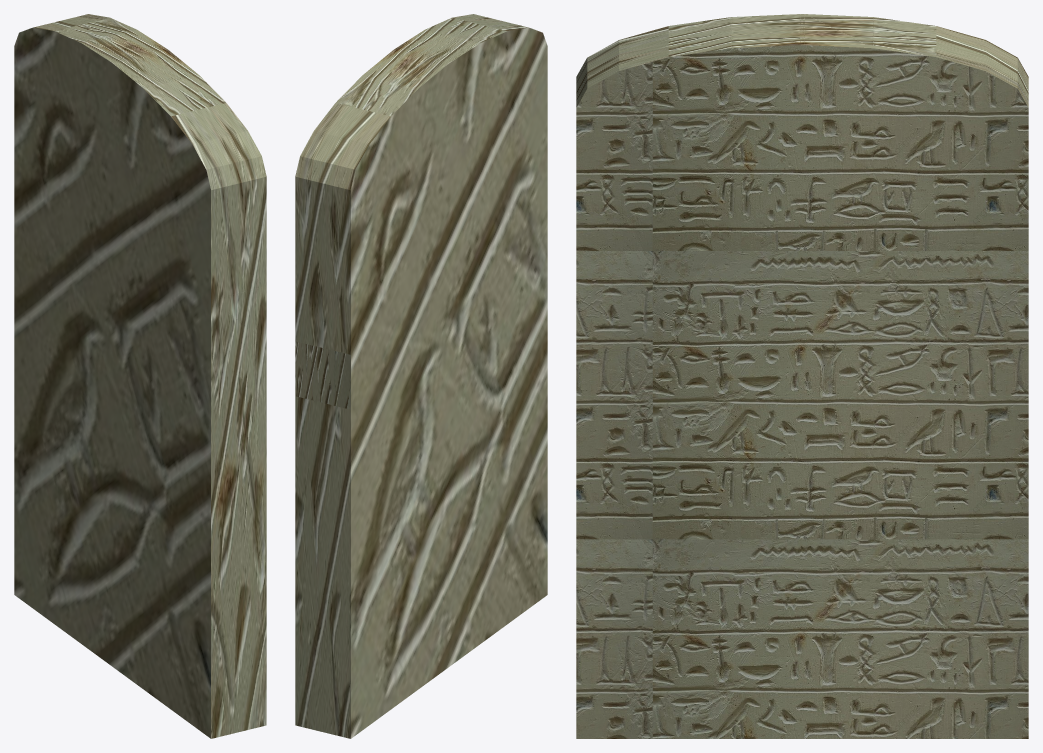
File: stoneTablet.glb
The picture shows the model from 3 angles, left to right: view 1: azimuth 30°, elevation 25°; view 2: azimuth 150°, elevation 25°; view 3: azimuth 270°, elevation 25°; orthographic projection. The views are drawn at different scales.
Visible parts, largest first — view 1: Cube; view 2: Cube; view 3: Cube.
Part boxes in pixels (box(x1,y1,x2,y2)): Cube: box(14, 14, 266, 738); Cube: box(295, 14, 547, 738); Cube: box(576, 14, 1028, 738).
Size of the model in its own units: 0.2898 by 3.01 by 1.78.
1 material, 1 textured.
